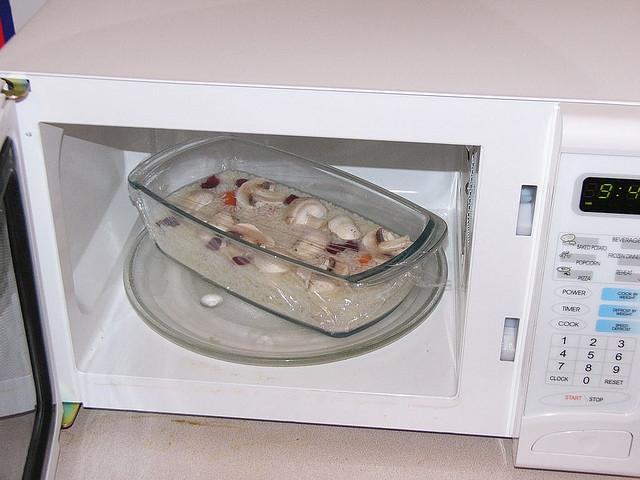mushroom: (218, 223, 274, 260), (362, 226, 412, 264), (296, 258, 349, 293), (236, 177, 286, 210), (284, 197, 328, 229), (290, 228, 332, 257), (254, 248, 298, 272), (173, 189, 214, 213), (328, 214, 363, 240), (207, 210, 240, 231)
